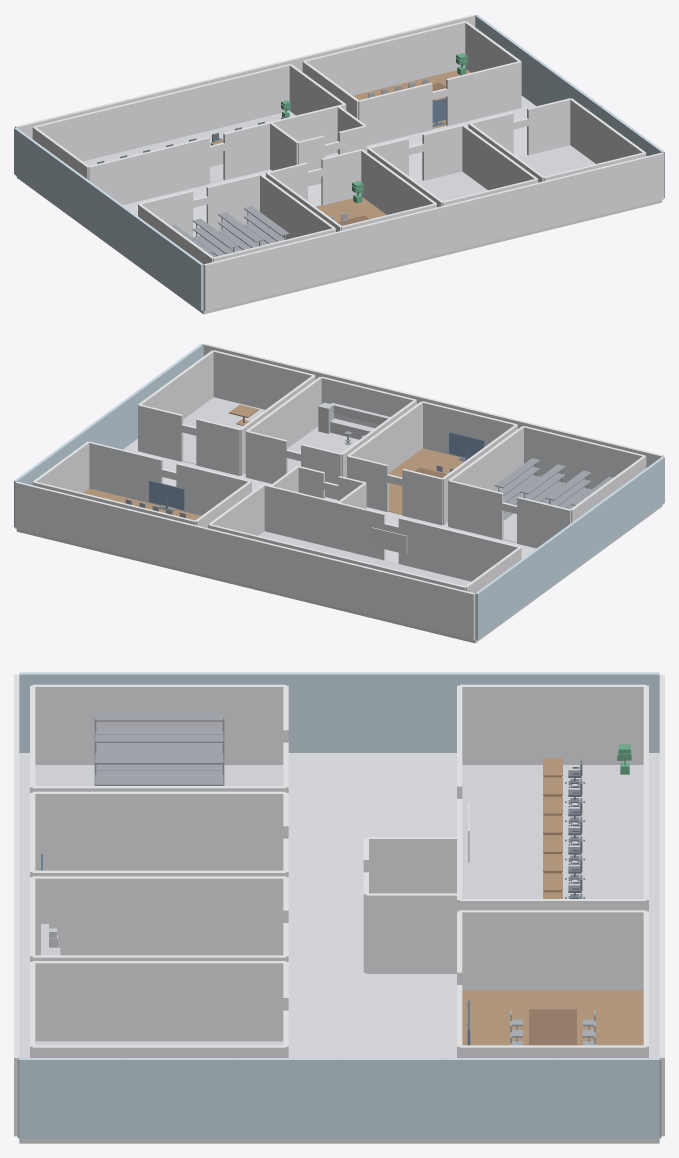
Rendered from floor_2_environment.glb.
3 views of the same model, one above another, from view 1: azimuth 30°, elevation 25°; view 2: azimuth 150°, elevation 25°; view 3: azimuth 270°, elevation 25° (orthographic). The views are drawn at different scales.
Parts seen in each view (by area): view 1: wall_s, w_rnd_n, wall_w, w_meeting_l2_n, w_rnd_s_a, slab, wall_e, w_meeting_l2_s_b, w_meeting_l2_s_a, wall_n, w_pantry2_e, w_focus2_e (+36 smaller); view 2: wall_n, wall_w, w_rnd_s_a, w_server_s, wall_e, w_rnd_s_b, slab, w_focus2_s, w_meeting_l2_s_b, w_core2_n, w_meeting_s2_s, w_server_n_b (+37 smaller); view 3: wall_e, slab, wall_w, floor_rnd, w_focus2_w, w_meeting_s2_w, w_pantry2_w, w_meeting_l2_w, w_server_w, w_rnd_w, floor_meeting_l2, w_core2_e (+19 smaller).
Boxes of the visible parts, box(x1,y1,x2,y2) form: wall_s: box(203, 152, 663, 311); w_rnd_n: box(33, 64, 290, 161); wall_w: box(14, 127, 203, 310); w_meeting_l2_n: box(303, 21, 465, 95); w_rnd_s_a: box(88, 137, 209, 204); slab: box(16, 96, 662, 314); wall_e: box(475, 15, 664, 156); w_meeting_l2_s_b: box(446, 61, 520, 125); w_meeting_l2_s_a: box(358, 83, 432, 145); wall_n: box(15, 14, 475, 138); w_pantry2_e: box(462, 125, 538, 190); w_focus2_e: box(570, 98, 646, 163); wall_n: box(15, 481, 475, 640); wall_w: box(475, 456, 664, 639); w_rnd_s_a: box(398, 517, 520, 581); w_server_s: box(523, 426, 645, 489); wall_e: box(14, 344, 203, 485); w_rnd_s_b: box(264, 484, 385, 560); slab: box(16, 439, 662, 643); w_focus2_s: box(213, 350, 315, 409); w_meeting_l2_s_b: box(88, 441, 162, 505); w_core2_n: box(270, 486, 337, 548); w_meeting_s2_s: box(422, 401, 517, 458); w_server_n_b: box(448, 480, 503, 539); wall_e: box(19, 1058, 659, 1138); slab: box(19, 753, 659, 1143); wall_w: box(19, 672, 659, 752); floor_rnd: box(462, 765, 643, 898); w_focus2_w: box(32, 961, 285, 1041); w_meeting_s2_w: box(32, 791, 285, 870); w_pantry2_w: box(32, 876, 285, 955); w_meeting_l2_w: box(459, 910, 646, 990); w_server_w: box(32, 684, 285, 764); w_rnd_w: box(459, 684, 646, 764); floor_meeting_l2: box(462, 990, 643, 1045); w_core2_e: box(366, 893, 459, 973).
Bounding box in the file's own units: 34.4 × 3.55 × 24.4.
